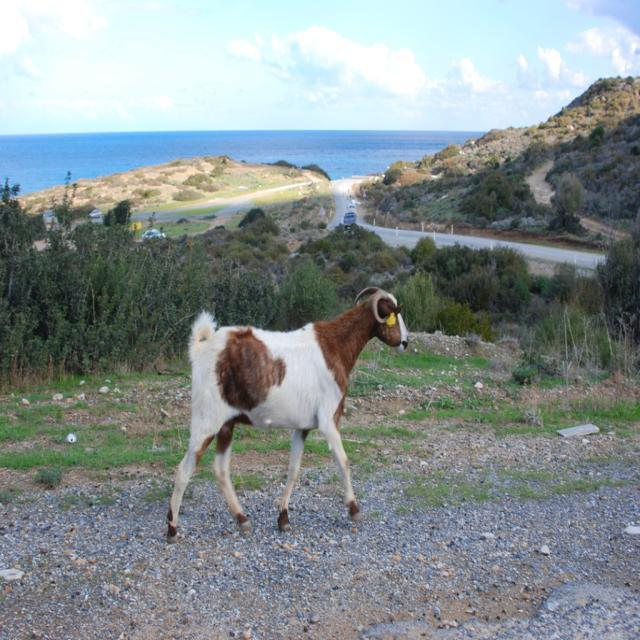Goat: (166, 284, 410, 543)
